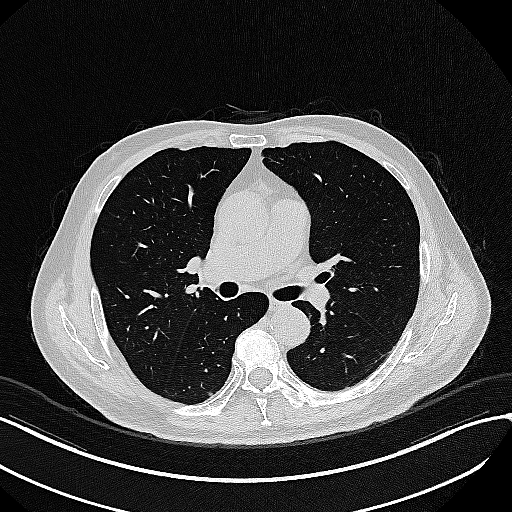nodule: (207, 392, 212, 396)
